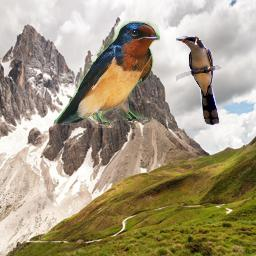Cuckoo: (176, 36, 221, 127)
Swallow: (53, 21, 160, 128)
